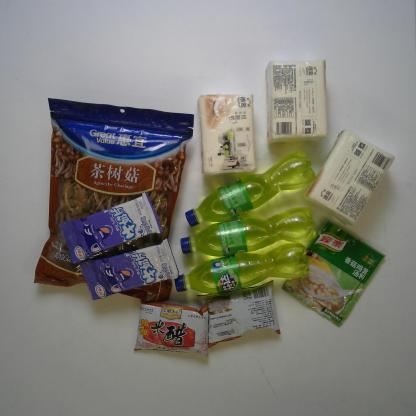Candy: (57, 190, 164, 266), (81, 238, 178, 301)
Dried Food: (32, 95, 194, 305)
Drink: (185, 151, 317, 230), (174, 238, 309, 297), (181, 207, 317, 259)
Seasoner: (282, 216, 388, 330), (195, 279, 283, 352), (132, 301, 216, 357)
Tissue: (304, 128, 398, 227), (262, 58, 328, 146), (195, 93, 258, 176)
